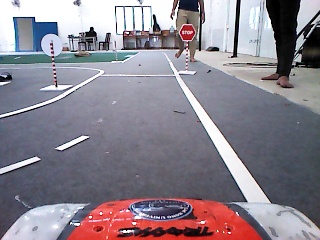stop: (178, 23, 197, 42)
